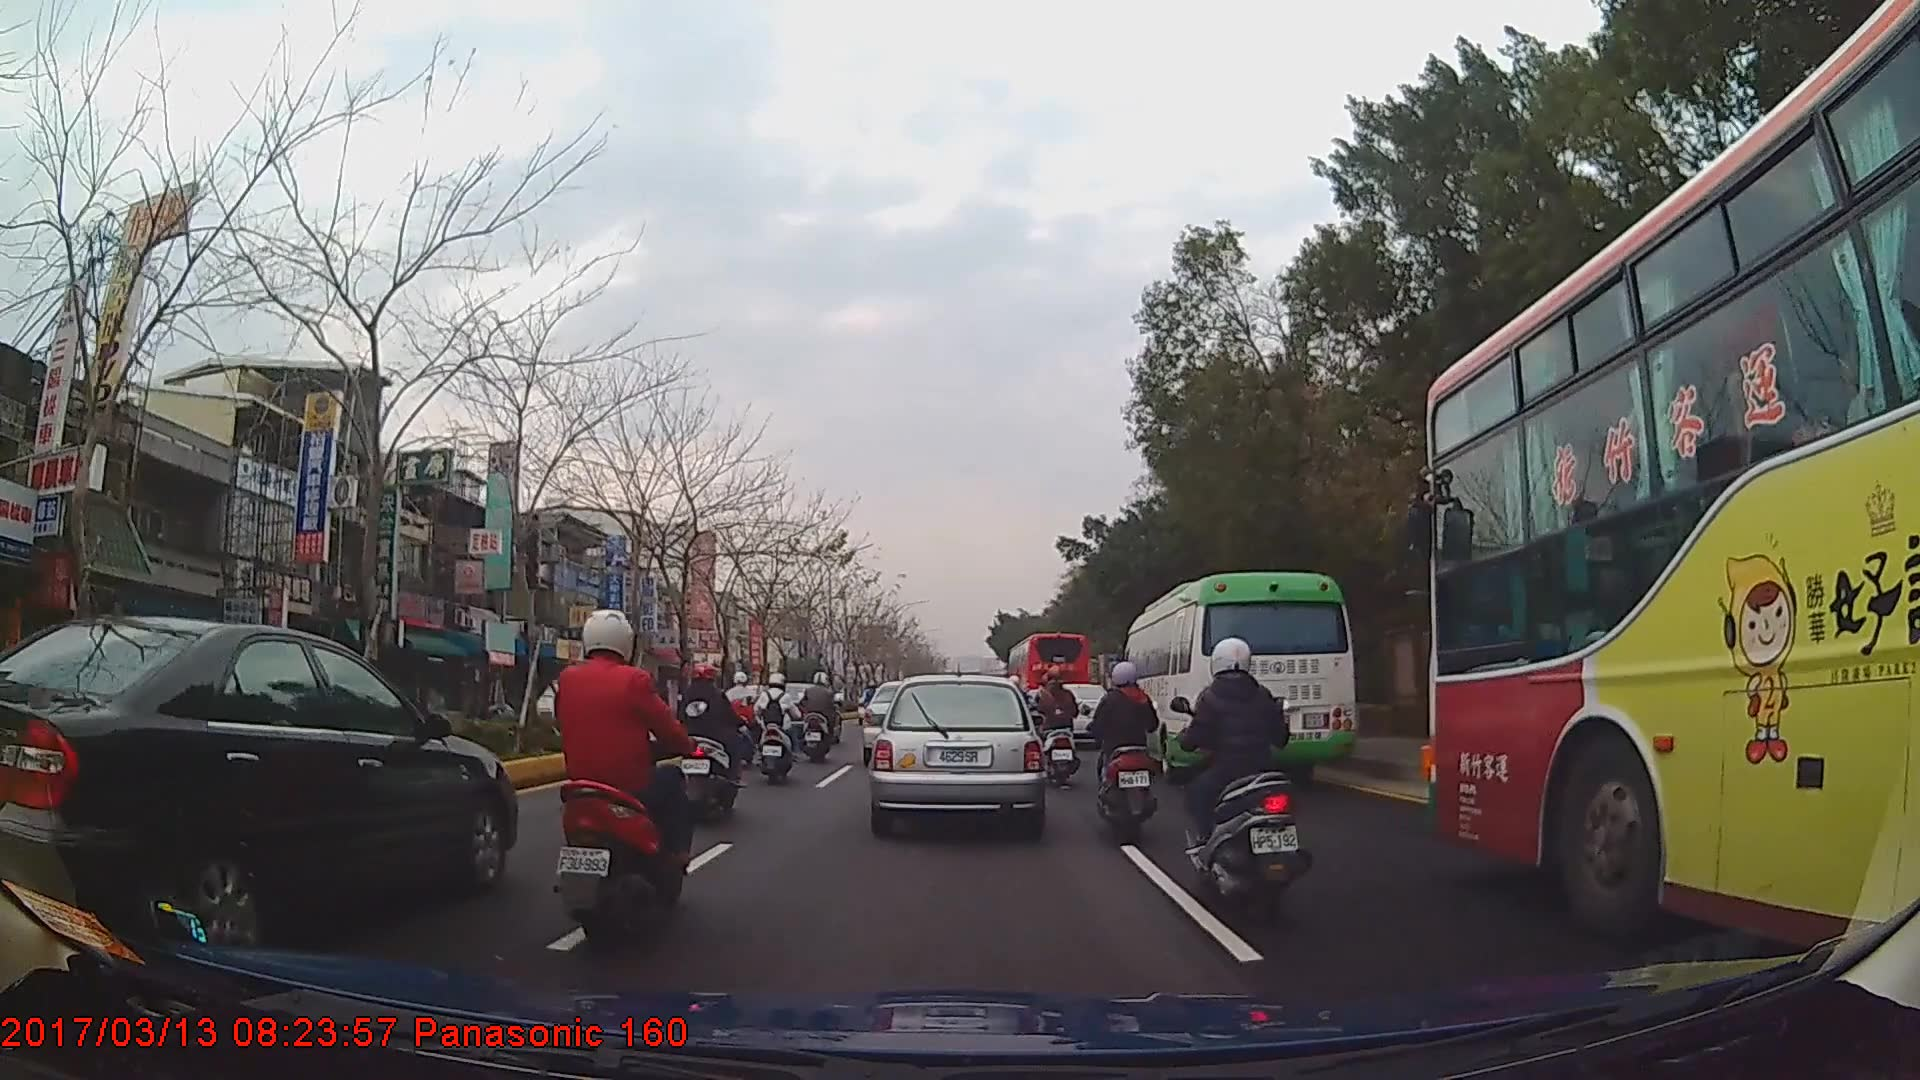rider: (555, 599, 707, 956), (1177, 640, 1316, 915), (1088, 662, 1166, 847), (671, 662, 750, 822), (1037, 661, 1083, 788), (755, 675, 805, 784), (803, 673, 845, 762), (722, 672, 764, 752), (860, 682, 881, 721)
vehicle: (1413, 0, 1920, 966), (0, 611, 516, 960), (1119, 570, 1356, 786), (868, 672, 1041, 832), (1008, 631, 1093, 729)
